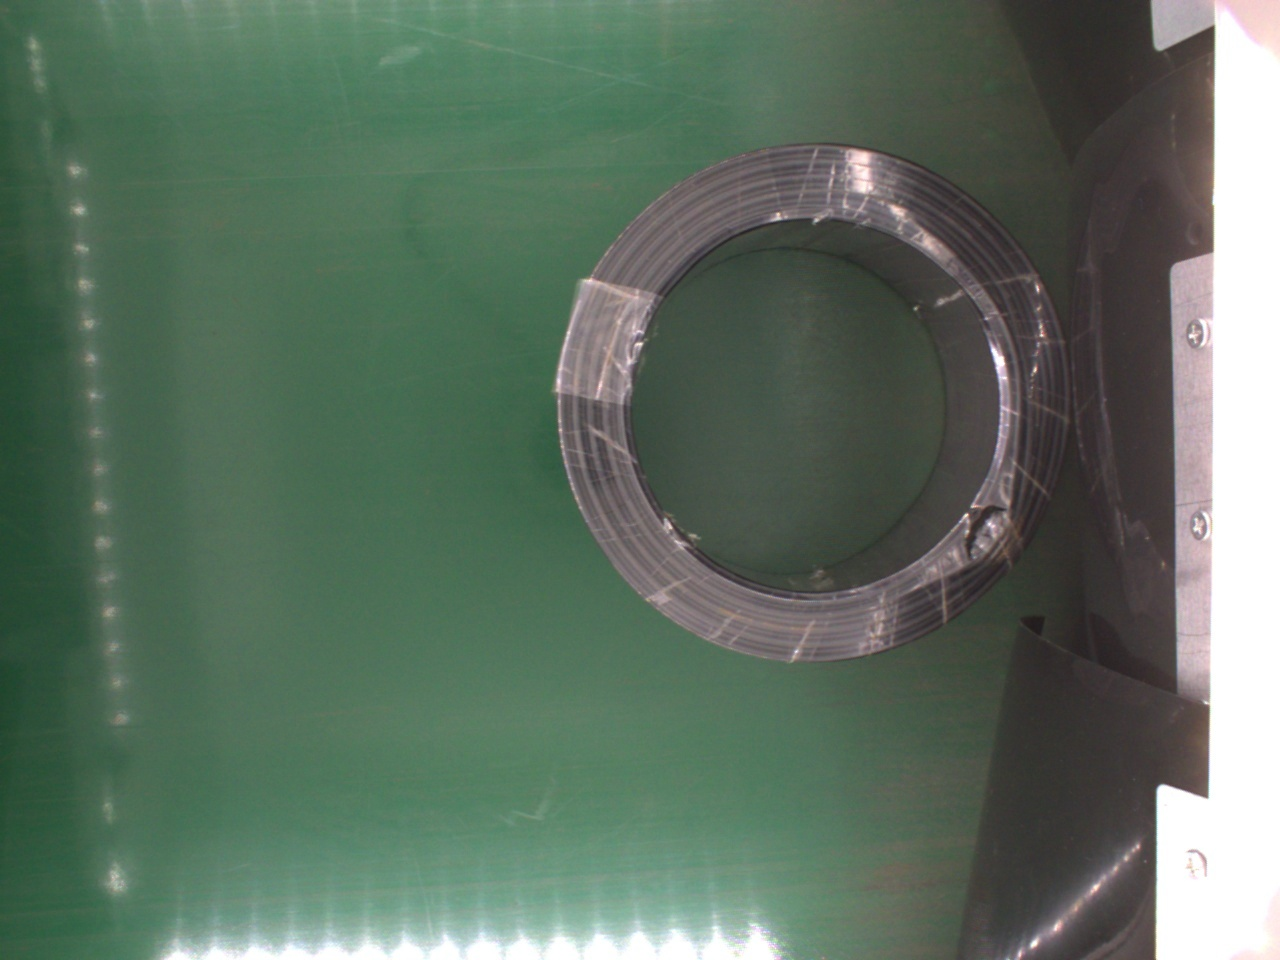black: (563, 142, 1061, 663)
